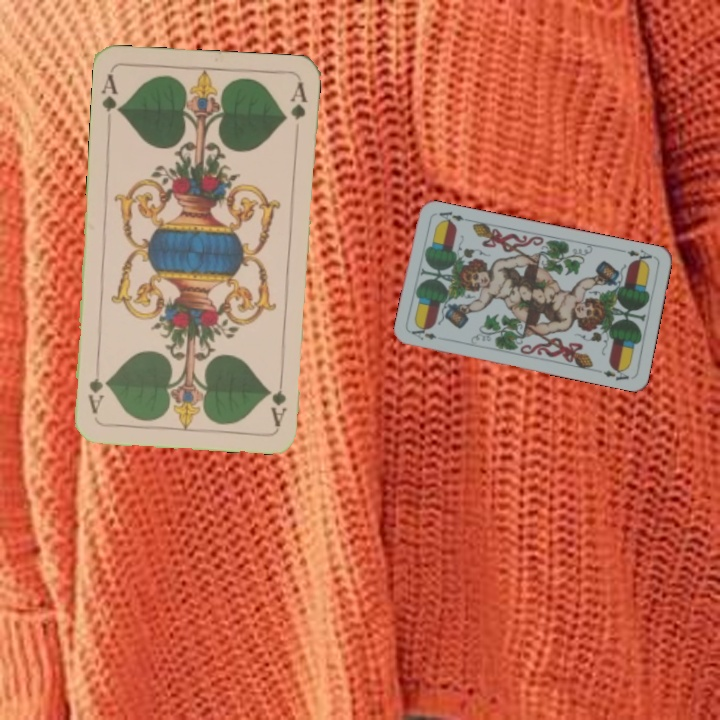EA: (617, 245, 657, 267), (408, 323, 439, 343)
GA: (267, 369, 290, 428), (98, 69, 125, 117)
